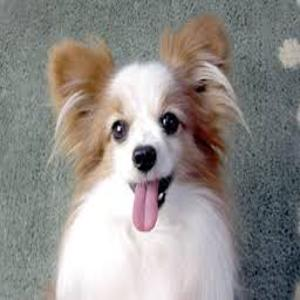yell: (46, 14, 235, 300)
